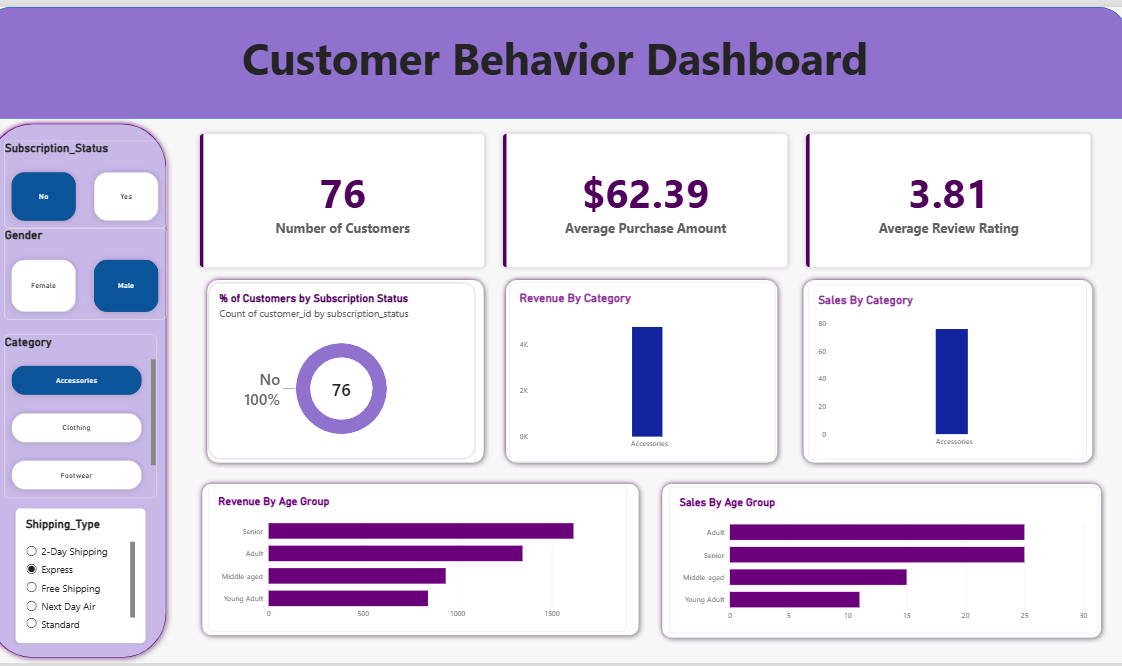

This screenshot's page, from the dashboard's own definition file:
{"tool":"powerbi","page":{"name":"Page 1","canvas":[1920,1080],"ordinal":0},"visuals":[{"type":"cardVisual","fields":{"Data":["public customer.Number of Customers","public customer.Average Purchase Amount","public customer.Average Review Rating"]},"box":[345.8,197.6,1490,242],"z":0},{"type":"shape","box":[0,0,1884,184],"z":1000},{"type":"textbox","box":[0,36,1884,112],"z":2000},{"type":"shape","box":[360.2,440.5,473.4,319],"z":3000},{"type":"donutChart","title":"% of Customers by Subscription Status","fields":{"Category":["public customer.subscription_status"],"Y":["CountNonNull(public customer.customer_id)"]},"box":[370.5,452.8,440.5,292.3],"z":4000},{"type":"shape","box":[852.1,440.5,465.2,319],"z":5000},{"type":"shape","box":[1342,440.5,494,319],"z":6000},{"type":"clusteredColumnChart","title":"Revenue By Category","fields":{"Category":["public customer.category"],"Y":["Sum(public customer.purchase_amount)"]},"box":[866.6,452.8,438.4,296.4],"z":7000},{"type":"clusteredColumnChart","title":"Sales By Category","fields":{"Category":["public customer.category"],"Y":["CountNonNull(public customer.customer_id)"]},"box":[1358.5,456.9,459,288.2],"z":8000},{"type":"shape","box":[0,183.2,310.8,897.4],"z":9000},{"type":"advancedSlicerVisual","fields":{"Values":["public customer.subscription_status"]},"box":[35,220.2,267.6,144.1],"z":10000},{"type":"advancedSlicerVisual","fields":{"Values":["public customer.gender"]},"box":[35,364.3,267.6,150.3],"z":11000},{"type":"advancedSlicerVisual","fields":{"Values":["public customer.category"]},"box":[35,539.3,251.1,269.6],"z":12000},{"type":"listSlicer","fields":{"Values":["public customer.shipping_type"]},"box":[53.6,824.7,214.5,222.1],"z":13000},{"type":"shape","box":[1109.4,776,741,271.7],"z":13500},{"type":"shape","box":[352.3,776.2,736.9,267.6],"z":16000},{"type":"clusteredBarChart","title":"Revenue By Age Group","fields":{"Category":["public customer.age_group"],"Y":["Sum(public customer.purchase_amount)"]},"box":[370.2,788.9,689.5,240.8],"z":16500},{"type":"clusteredBarChart","title":"Sales By Age Group","fields":{"Category":["public customer.age_group"],"Y":["CountNonNull(public customer.customer_id)"]},"box":[1130,790.4,706,240.8],"z":17500}]}

Visuals, with their boxes on the page's 1920x1080 design canvas (x1, y1, x2, y2). These are canvas units, not pixel positions in the 1122x666 screenshot, which may show the page scaled, cropped or inside an application window:
cardVisual - public customer.Number of Customers x public customer.Average Purchase Amount: [346,198,1836,440]
shape: [0,0,1884,184]
textbox: [0,36,1884,148]
shape: [360,440,834,760]
"% of Customers by Subscription Status" donutChart: [370,453,811,745]
shape: [852,440,1317,760]
shape: [1342,440,1836,760]
"Revenue By Category" clusteredColumnChart: [867,453,1305,749]
"Sales By Category" clusteredColumnChart: [1358,457,1818,745]
shape: [0,183,311,1081]
advancedSlicerVisual - public customer.subscription_status: [35,220,303,364]
advancedSlicerVisual - public customer.gender: [35,364,303,515]
advancedSlicerVisual - public customer.category: [35,539,286,809]
listSlicer - public customer.shipping_type: [54,825,268,1047]
shape: [1109,776,1850,1048]
shape: [352,776,1089,1044]
"Revenue By Age Group" clusteredBarChart: [370,789,1060,1030]
"Sales By Age Group" clusteredBarChart: [1130,790,1836,1031]
